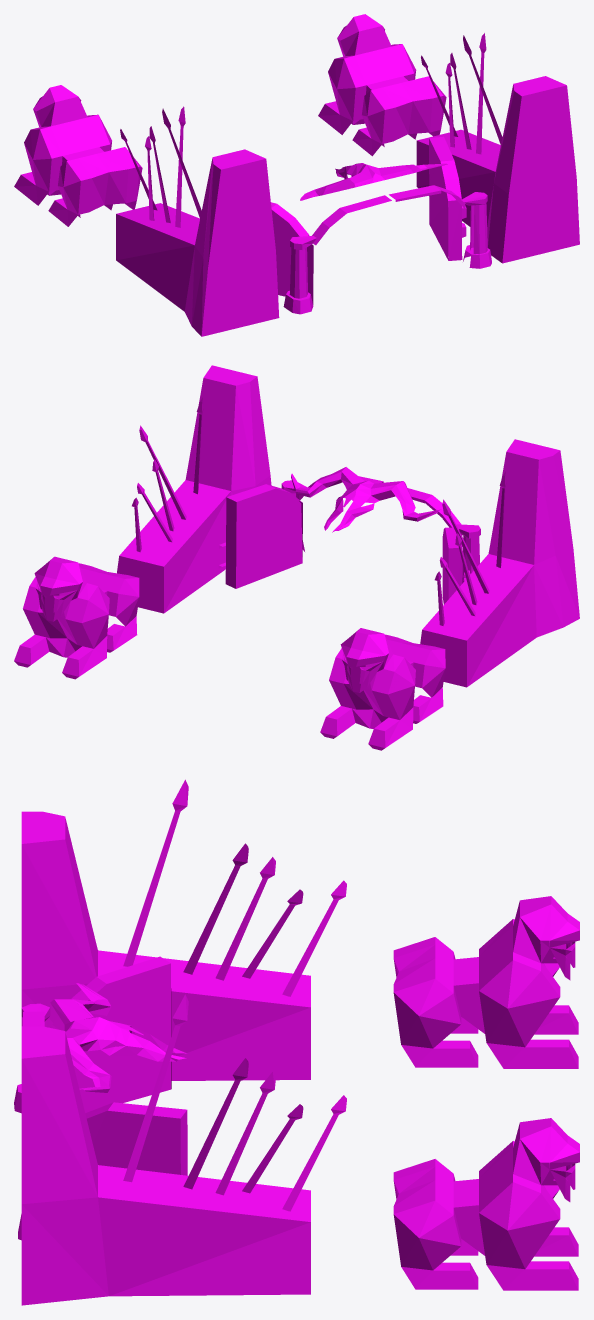
File: cave templedooropen.obj
The picture shows the model from 3 angles, top to bottom: view 1: azimuth 30°, elevation 25°; view 2: azimuth 150°, elevation 25°; view 3: azimuth 270°, elevation 25°; orthographic projection. The views are drawn at different scales.
Parts seen in each view (by area): view 1: cave templedooropen_back; view 2: cave templedooropen_back; view 3: cave templedooropen_back.
Boxes of the visible parts, x1=… form: cave templedooropen_back: x1=14, y1=14, x2=579, y2=336; cave templedooropen_back: x1=14, y1=365, x2=579, y2=750; cave templedooropen_back: x1=14, y1=779, x2=579, y2=1305.
Size of the model in its own units: 9.48 by 4.34 by 8.29.
